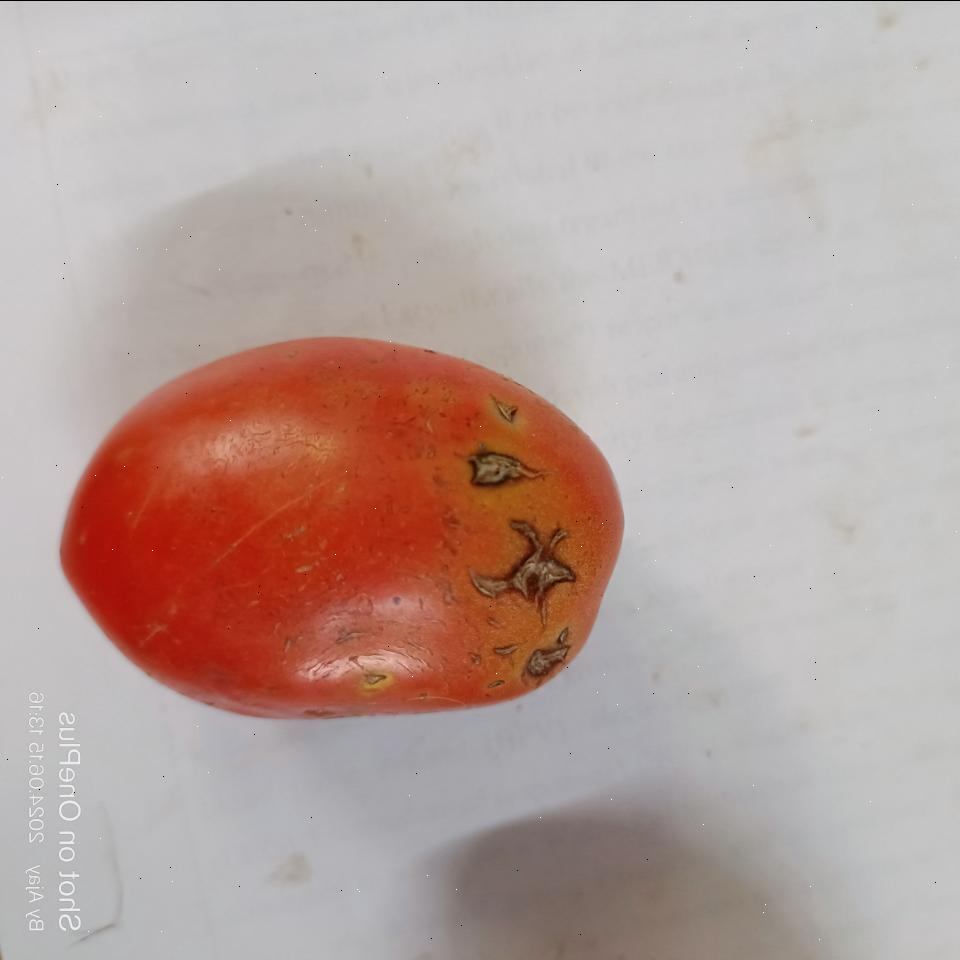Bacterial_Spot: (479, 525, 583, 613), (471, 449, 545, 487), (527, 621, 575, 677), (494, 402, 527, 428)
